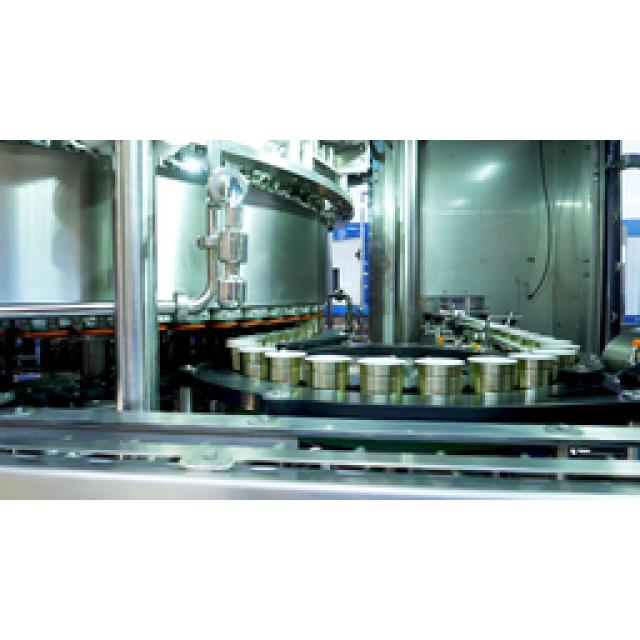alumunium: (230, 322, 555, 405), (440, 310, 578, 355), (218, 228, 245, 305)
